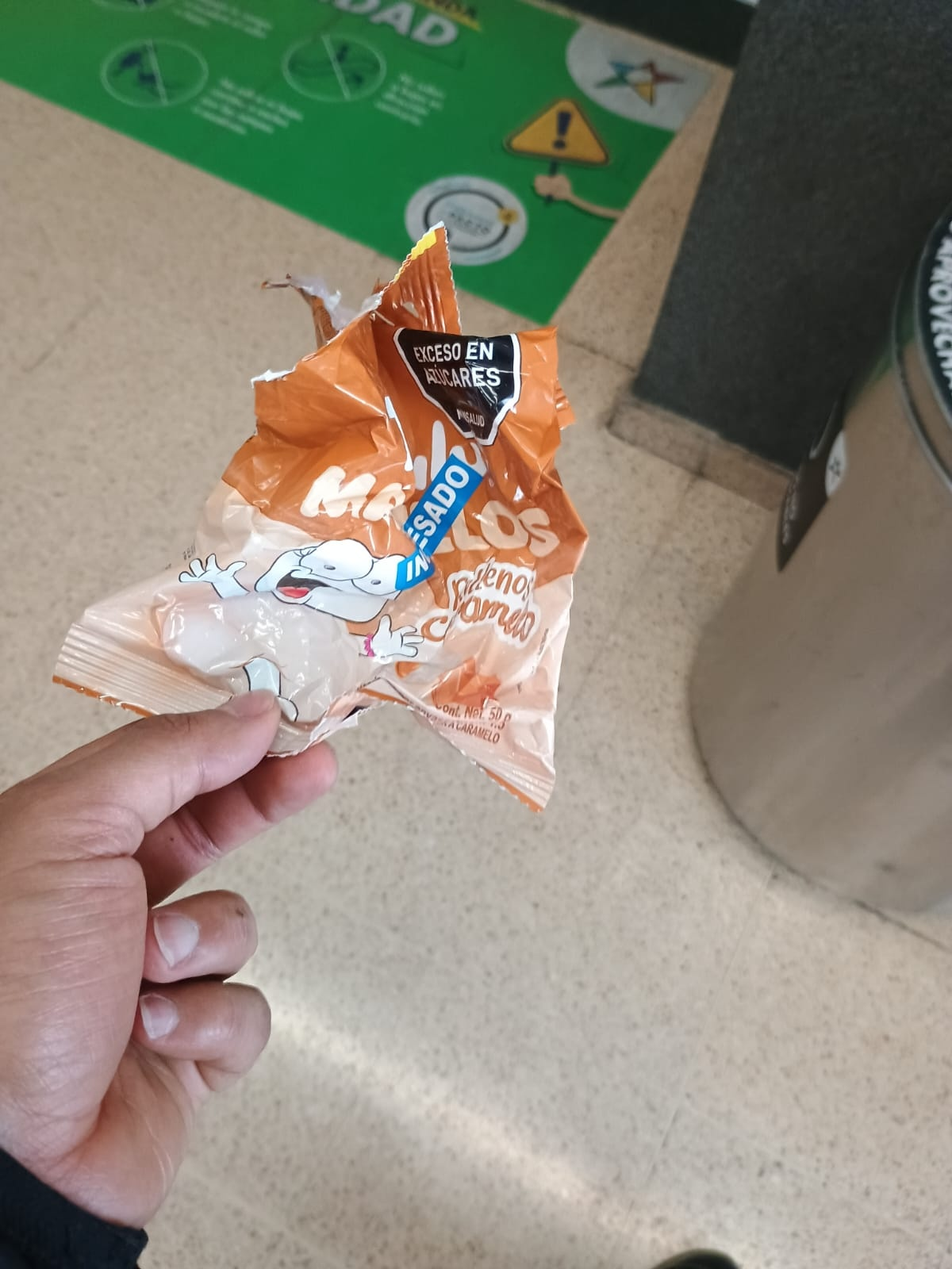Ordinario: (51, 219, 586, 816)
